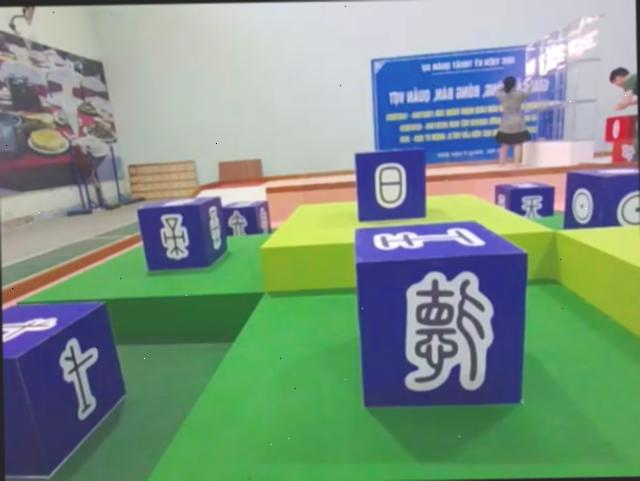R2 Fake Blue: (352, 213, 529, 413), (353, 146, 425, 221), (222, 198, 273, 235)
R2 Real Blue: (1, 298, 127, 481), (137, 194, 228, 271), (565, 166, 640, 229), (493, 181, 555, 218)
